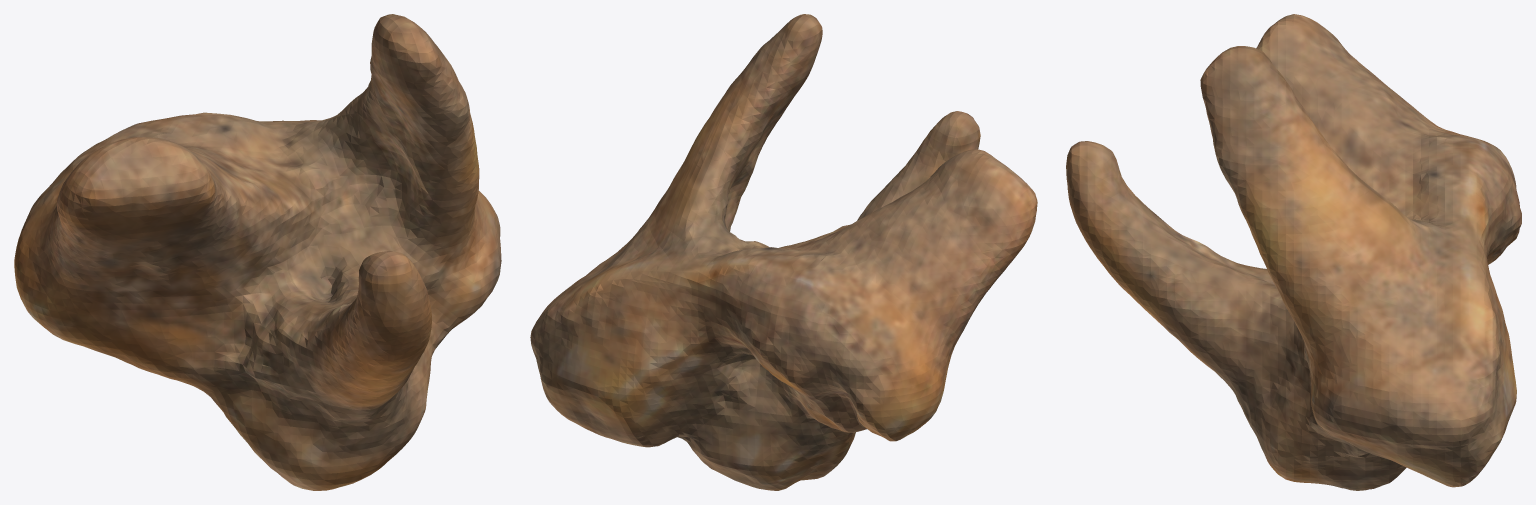
The model's file is MB Can 4 M1.obj.
3 renders of one model, left to right at view 1: azimuth 30°, elevation 25°; view 2: azimuth 150°, elevation 25°; view 3: azimuth 270°, elevation 25°, orthographic. The views are drawn at different scales.
Bounding box in the file's own units: 19.54 × 18.67 × 17.22.
1 material, 1 textured.
